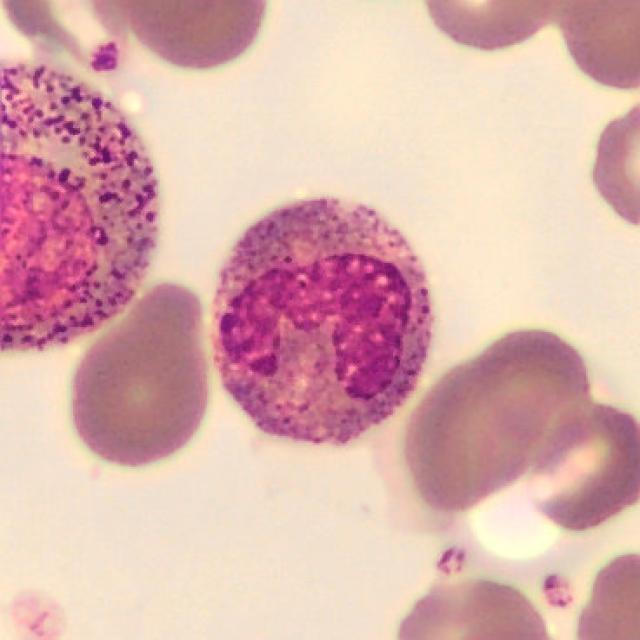Neutrofilo segmentado: (210, 197, 435, 448)
Promielocito: (0, 62, 160, 355)
